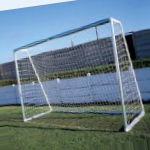goals: (11, 16, 146, 133)
